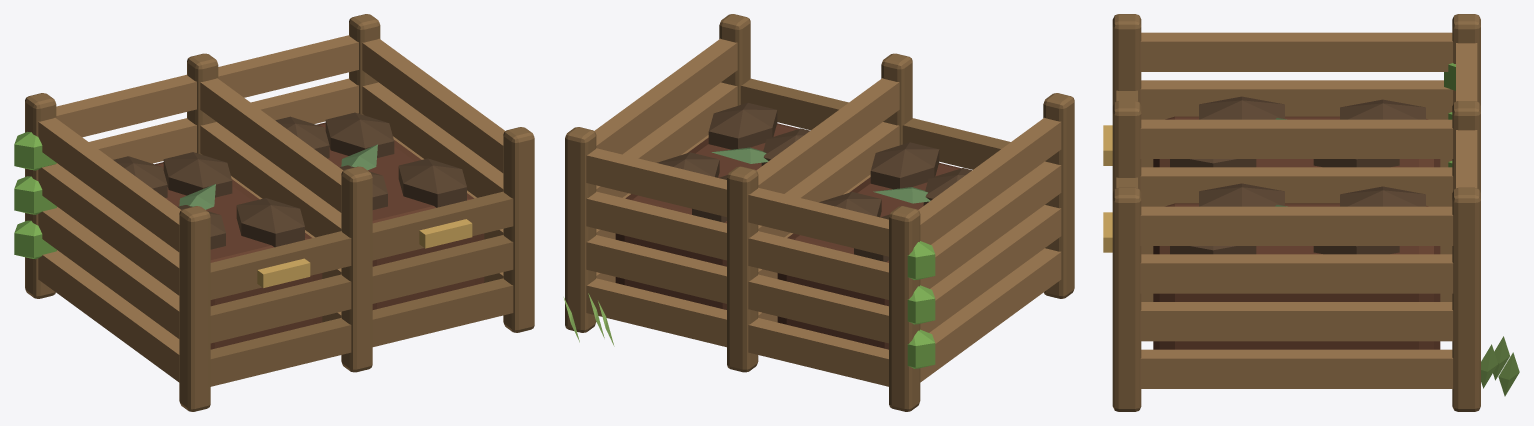
Rendered from composter.glb.
3 renders of one model, left to right at view 1: azimuth 30°, elevation 25°; view 2: azimuth 150°, elevation 25°; view 3: azimuth 270°, elevation 25°, orthographic. The views are drawn at different scales.
Parts seen in each view (by area): view 1: Compost_timber_upright, Compost_slatted_divider.011, Compost_slatted_divider.007, Compost_slatted_divider.003, Compost_slatted_divider, Compost_slatted_divider.002, Compost_slatted_divider.001, Compost_timber_upright.002, Compost_timber_upright.004, Compost_removable_front_slat.003, Compost_removable_front_slat.004, Compost_removable_front_slat (+29 smaller); view 2: Compost_slatted_divider.003, Compost_slatted_divider.011, Compost_slatted_divider.007, Compost_slatted_divider, Compost_slatted_divider.001, Compost_slatted_divider.002, Compost_back_slat.001, Compost_back_slat.003, Compost_back_slat.005, Compost_back_slat.006, Compost_back_slat.007, Compost_back_slat (+25 smaller); view 3: Compost_slatted_divider.010, Compost_slatted_divider.008, Compost_slatted_divider.009, Compost_slatted_divider.011, Compost_slatted_divider.007, Compost_slatted_divider.003, Compost_slatted_divider.006, Compost_slatted_divider.002, Compost_dark_earth.001, Compost_timber_upright.004, Compost_timber_upright.005, Compost_timber_upright.002 (+19 smaller).
Part boxes in pixels (x1,y1,x2,y2): Compost_timber_upright: (179,206,210,411); Compost_slatted_divider.011: (362,38,504,172); Compost_slatted_divider.007: (200,78,343,212); Compost_slatted_divider.003: (38,117,180,251); Compost_slatted_divider: (38,250,179,382); Compost_slatted_divider.002: (38,163,179,295); Compost_slatted_divider.001: (38,207,179,338); Compost_timber_upright.002: (341,166,372,372); Compost_timber_upright.004: (503,127,534,332); Compost_removable_front_slat.003: (372,278,513,346); Compost_removable_front_slat.004: (372,235,513,303); Compost_removable_front_slat: (210,318,351,386); Compost_slatted_divider.003: (918,117,1061,244); Compost_slatted_divider.011: (594,38,737,154); Compost_slatted_divider.007: (756,78,899,193); Compost_slatted_divider: (920,248,1061,382); Compost_slatted_divider.001: (920,204,1061,332); Compost_slatted_divider.002: (920,161,1061,288); Compost_back_slat.001: (748,274,888,343); Compost_back_slat.003: (748,187,888,256); Compost_back_slat.005: (586,235,726,303); Compost_back_slat.006: (586,191,726,260); Compost_back_slat.007: (586,148,726,216); Compost_back_slat: (748,318,888,386); Compost_slatted_divider.010: (1140,254,1453,293); Compost_slatted_divider.008: (1140,349,1453,388); Compost_slatted_divider.009: (1140,302,1453,341); Compost_slatted_divider.011: (1140,206,1453,245); Compost_slatted_divider.007: (1140,119,1453,158); Compost_slatted_divider.003: (1140,32,1453,71); Compost_slatted_divider.006: (1140,167,1453,206); Compost_slatted_divider.002: (1140,80,1453,119); Compost_dark_earth.001: (1153,203,1440,349); Compost_timber_upright.004: (1112,187,1141,411); Compost_timber_upright.005: (1452,187,1480,411); Compost_timber_upright.002: (1112,101,1141,192).
Bounding box in the file's own units: 1.93 × 1 × 1.74.
